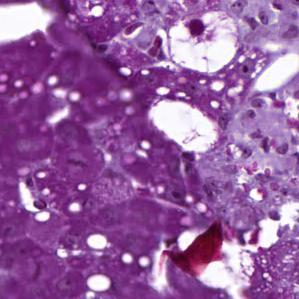ballooning: (163, 8, 243, 79), (147, 95, 222, 157)
